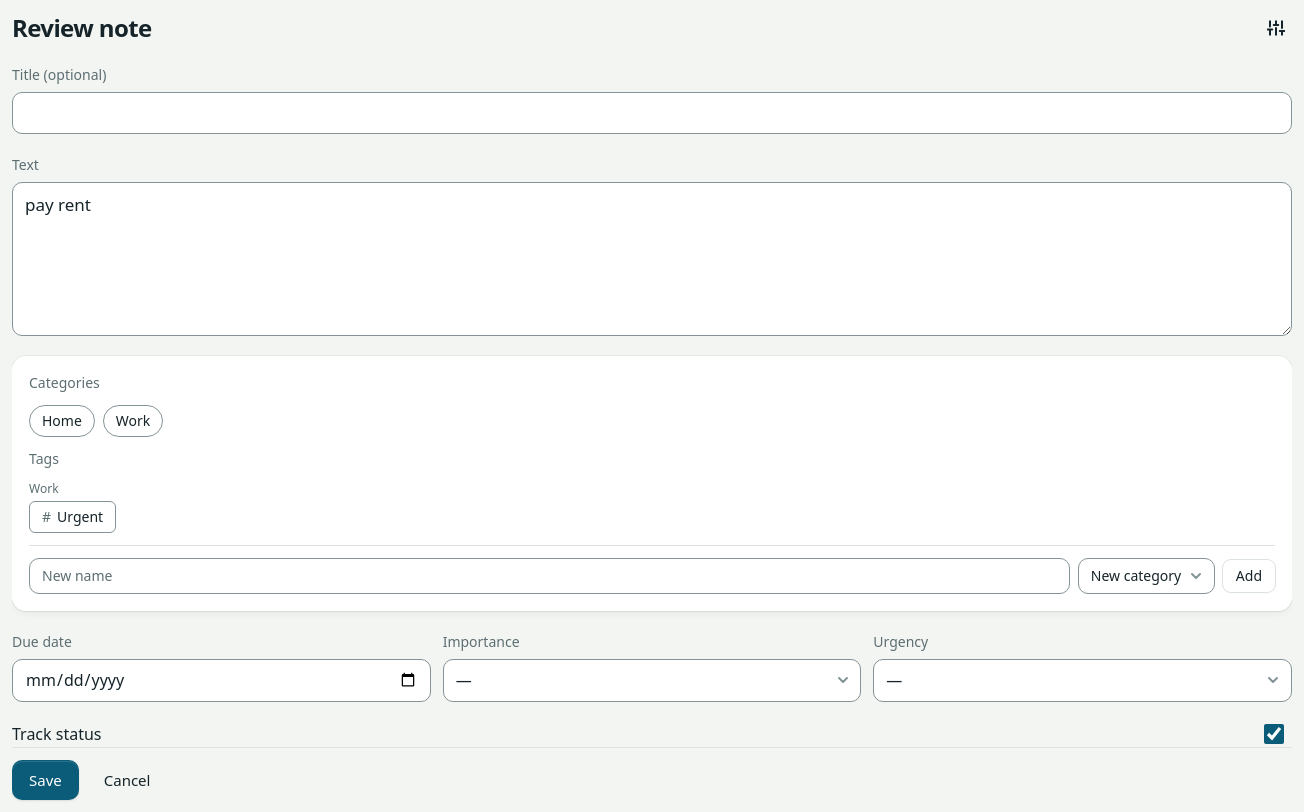
Test: NoteEditor category importance › raises when added through a tag
Click the button "Urgent".
click(73, 517)  # box [29,501,116,533]
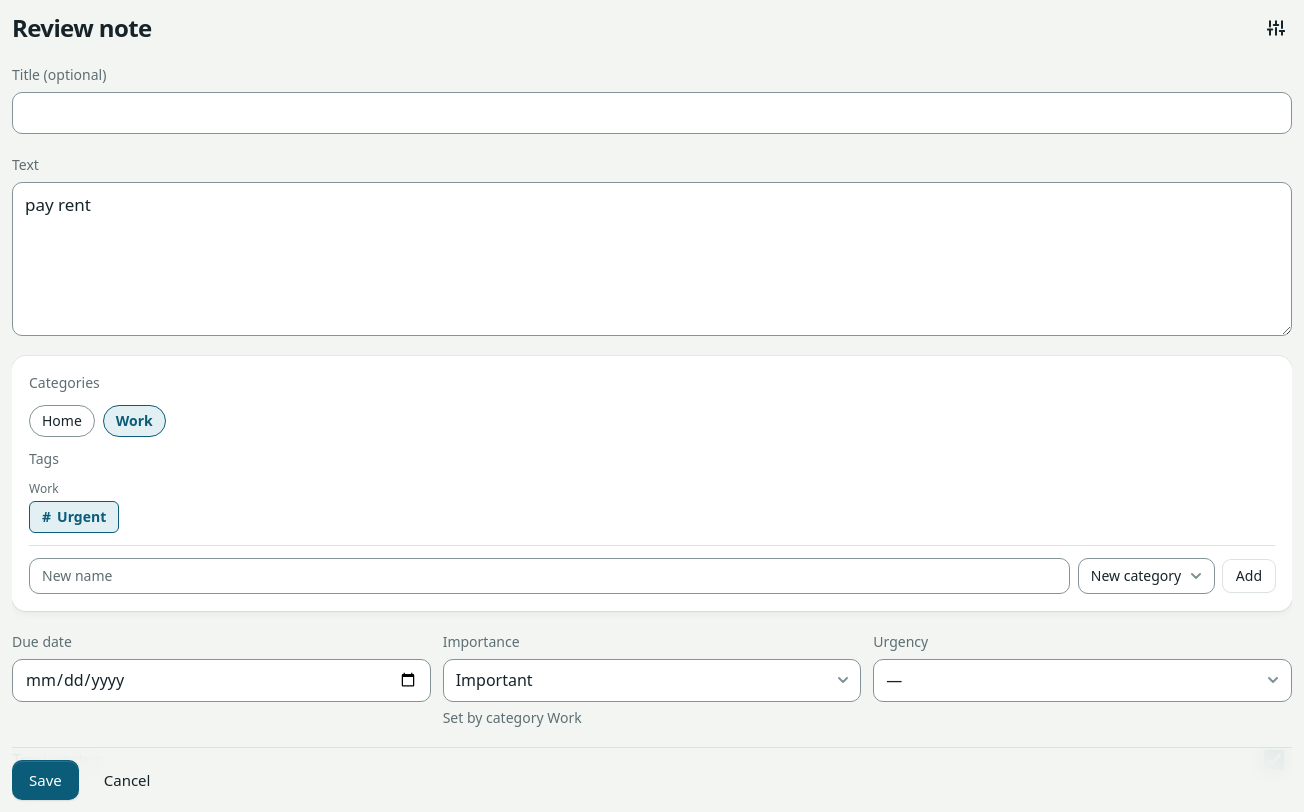
Expected: the dropdown labelled "Importance Set by category Work" shows "Important", [443,659,861,702]
